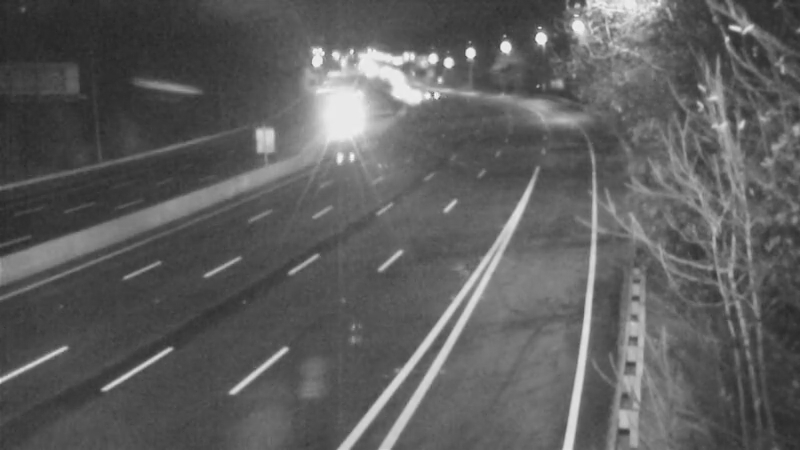vehicle: (377, 63, 427, 113), (410, 72, 460, 122), (387, 70, 437, 120), (312, 101, 362, 151)
